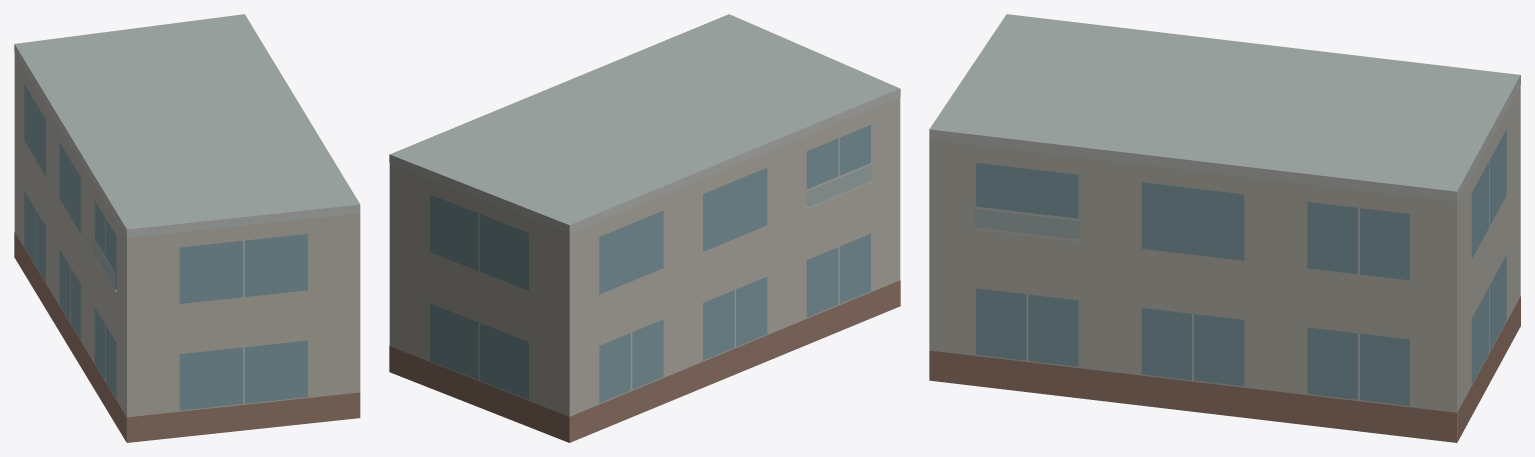
File: survey-upis-32803028.glb
3 renders of one model, left to right at view 1: azimuth 30°, elevation 25°; view 2: azimuth 150°, elevation 25°; view 3: azimuth 270°, elevation 25°, orthographic. The views are drawn at different scales.
Parts seen in each view (by area): view 1: survey-upis-32803028.tmp; view 2: survey-upis-32803028.tmp; view 3: survey-upis-32803028.tmp.
Boxes of the visible parts, x1,y1,x2,y2 form: survey-upis-32803028.tmp: (14,14,360,442); survey-upis-32803028.tmp: (389,14,900,442); survey-upis-32803028.tmp: (929,14,1520,442).
Size of the model in its own units: 9.26 by 6.1 by 13.03.
